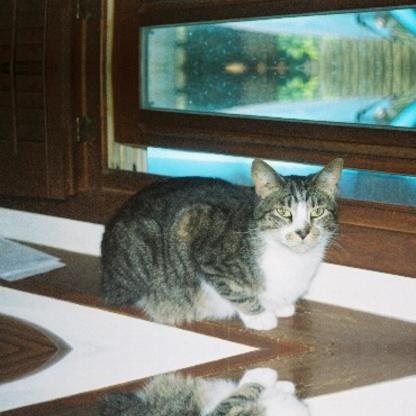Cat: (99, 156, 345, 326), (99, 370, 346, 415)
